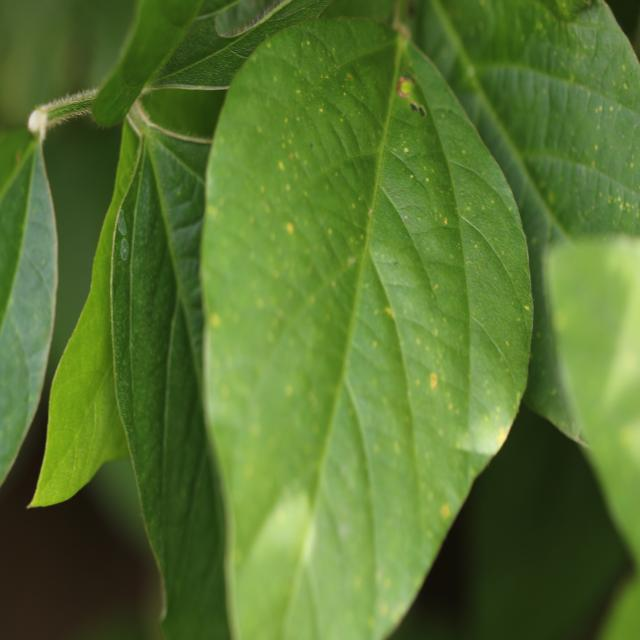Soybean: (0, 0, 640, 640)
downey_mildew: (213, 42, 380, 344), (220, 249, 354, 554), (333, 287, 420, 624), (27, 324, 124, 513), (142, 113, 215, 357), (108, 126, 153, 506), (374, 278, 464, 459), (395, 40, 485, 220), (375, 146, 464, 322), (525, 9, 640, 137), (303, 37, 401, 185), (467, 96, 561, 243), (440, 160, 523, 301), (162, 276, 205, 538), (292, 157, 384, 278), (516, 153, 640, 238), (375, 46, 447, 185), (313, 377, 372, 545), (9, 147, 56, 354), (149, 8, 258, 83), (415, 1, 499, 93), (447, 1, 565, 65), (0, 299, 38, 494), (580, 83, 640, 188), (216, 1, 340, 50), (104, 112, 145, 253), (296, 18, 390, 73), (127, 164, 163, 307), (481, 68, 554, 132), (330, 86, 380, 146)
